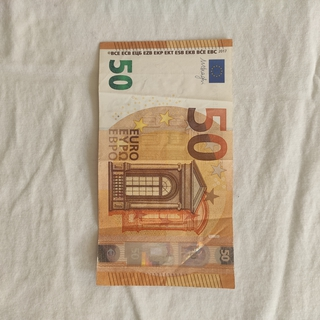50EUROFront: (95, 37, 236, 290)
